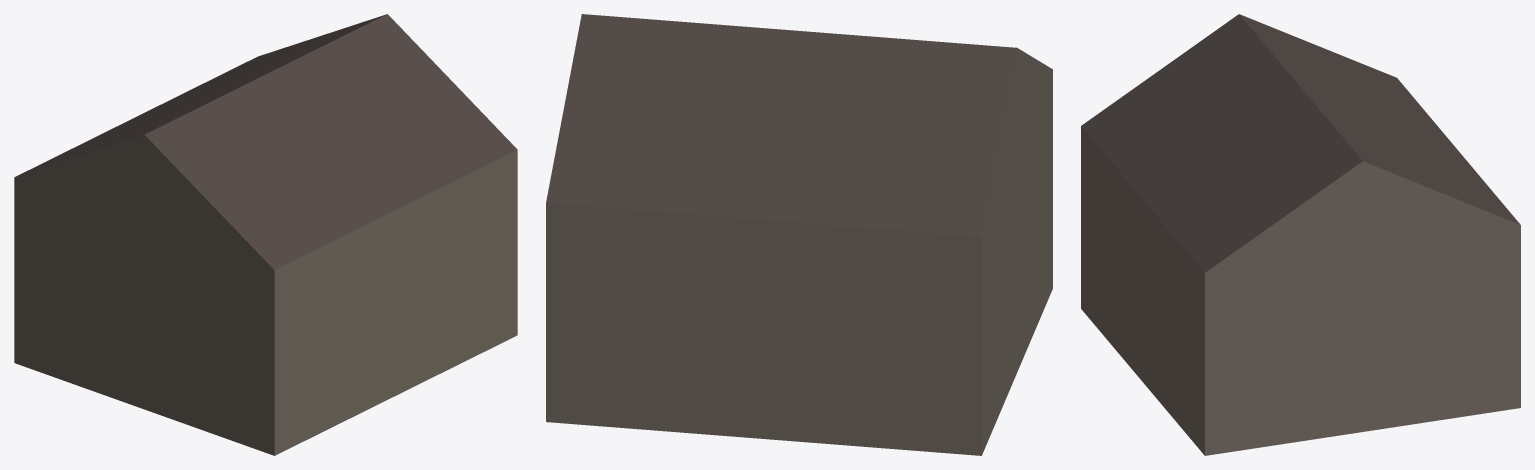
The picture shows the model from 3 angles, left to right: view 1: azimuth 30°, elevation 25°; view 2: azimuth 150°, elevation 25°; view 3: azimuth 270°, elevation 25°; orthographic projection. The views are drawn at different scales.
Visible parts, largest first — view 1: HP-w859457376; view 2: HP-w859457376; view 3: HP-w859457376.
Boxes of the visible parts, bbox=[...] form: HP-w859457376: bbox=[14, 14, 517, 455]; HP-w859457376: bbox=[546, 14, 1052, 455]; HP-w859457376: bbox=[1081, 14, 1520, 455].
Size of the model in its own units: 13.73 by 8.88 by 13.07.
